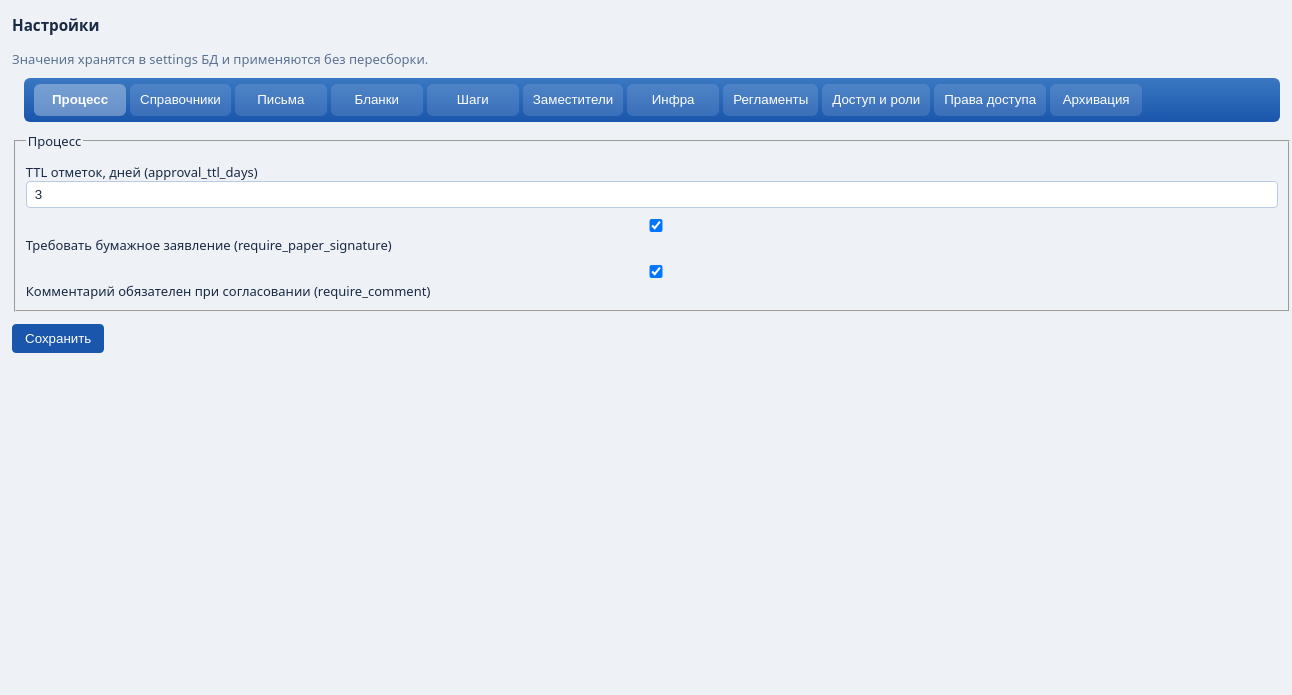
it: AdminSettings › удаляет предприятие
This screenshot has width=1292, height=695.
Click the button "Справочники".
click(180, 100)  # box x1=130 y1=84 x2=231 y2=116
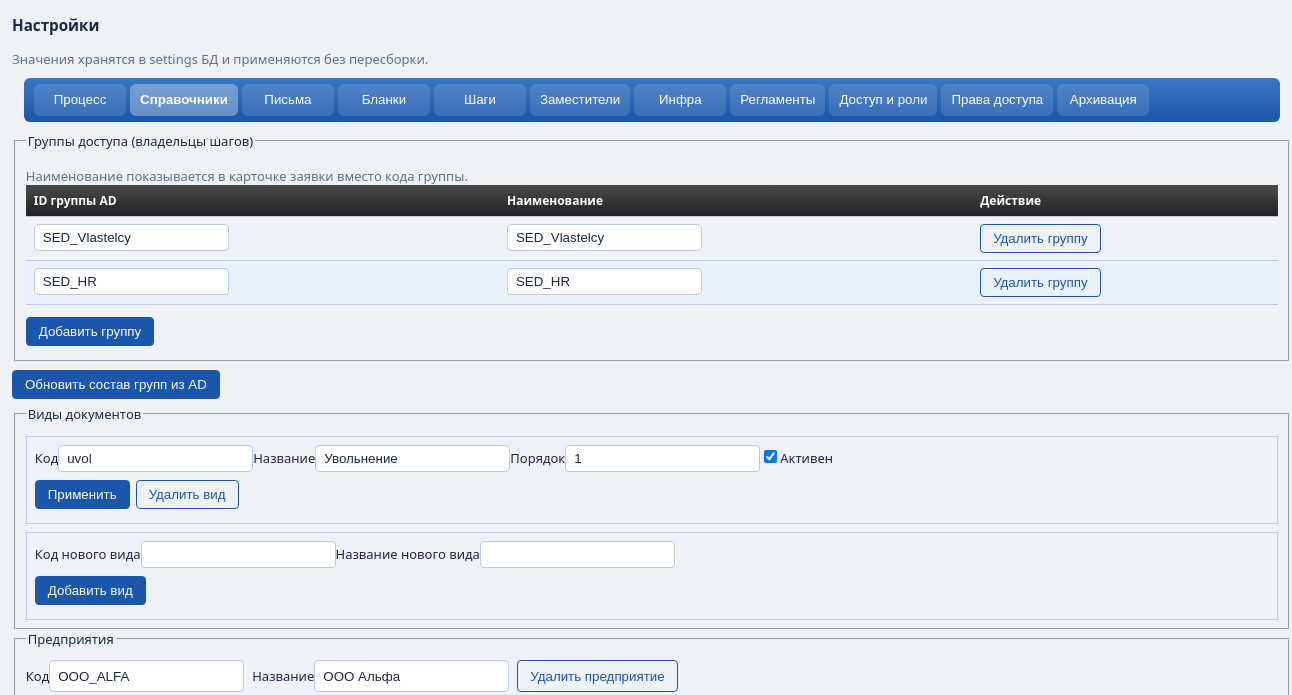
Result: the field named "Код предприятия 1" is shown at x1=49 y1=660 x2=244 y2=692
Click the button "Удалить предприятие".
click(598, 676)  # box x1=517 y1=660 x2=678 y2=692
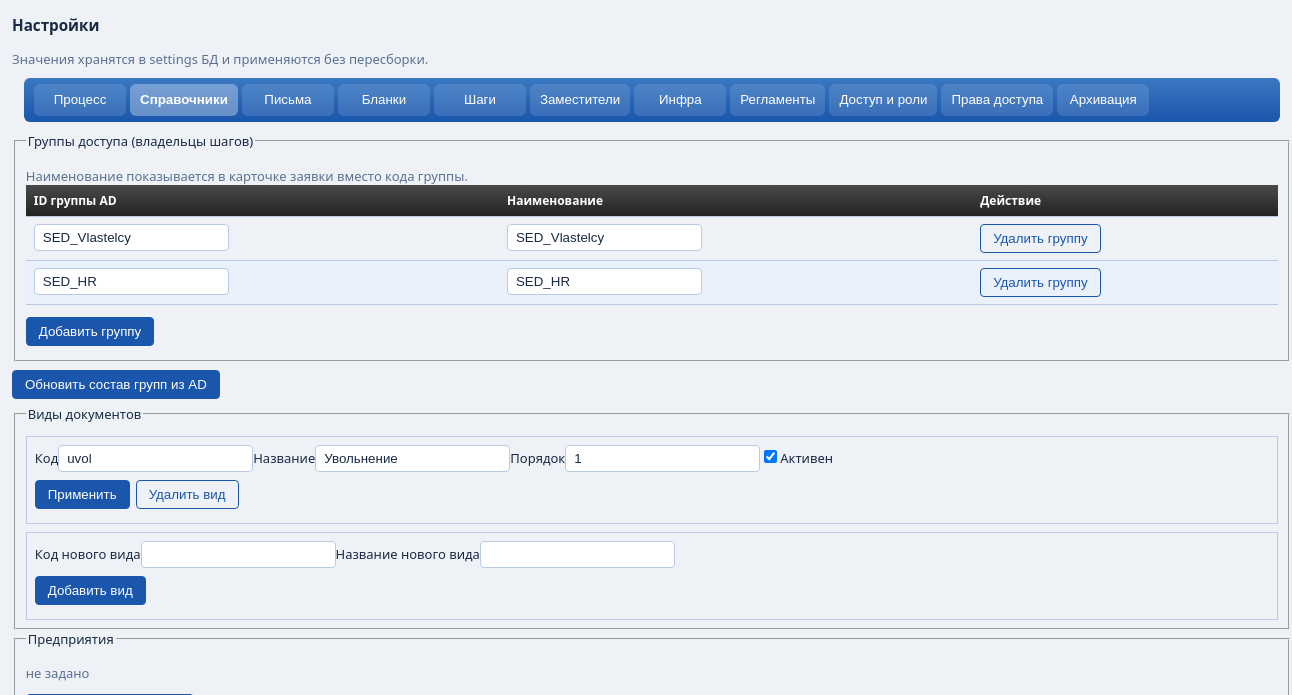
Result: the text "не задано" is shown at x1=26 y1=664 x2=90 y2=682
